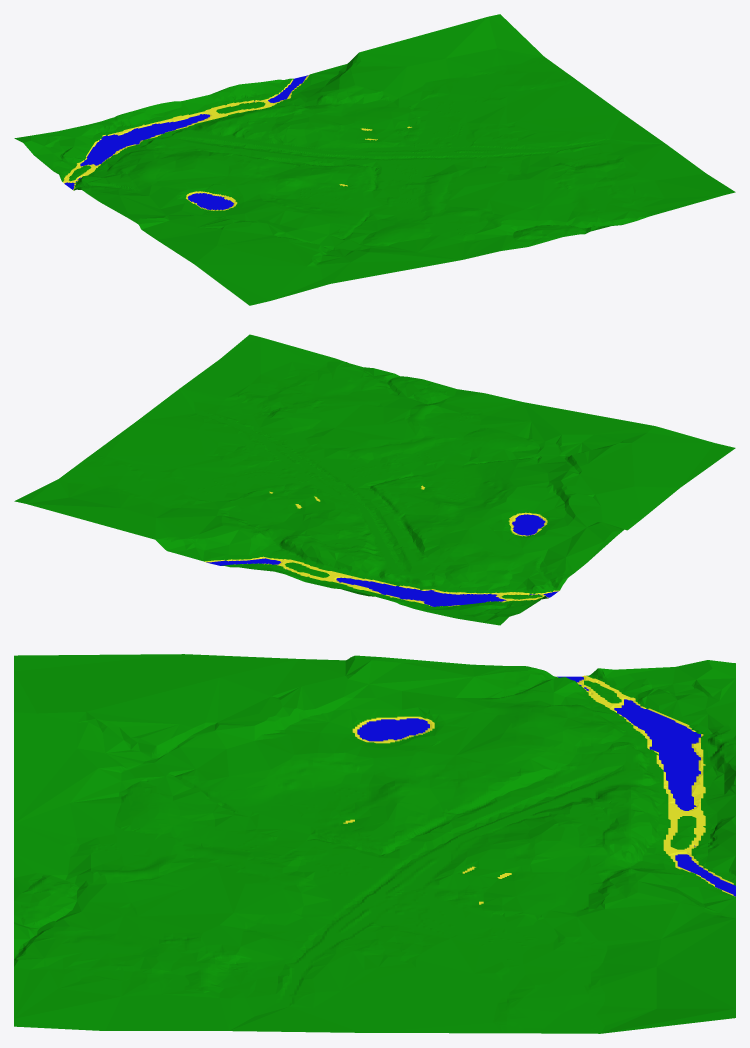
File: manifold.obj
The picture shows the model from 3 angles, top to bottom: view 1: azimuth 30°, elevation 25°; view 2: azimuth 150°, elevation 25°; view 3: azimuth 270°, elevation 25°; orthographic projection. The views are drawn at different scales.
Visible parts, largest first — view 1: ground, deepwater, water; view 2: ground, deepwater, water; view 3: ground, deepwater, water.
Part boxes in pixels (<box>): ground: <box>14,14,735,305</box>; deepwater: <box>64,75,308,209</box>; water: <box>63,74,411,210</box>; ground: <box>14,334,735,625</box>; deepwater: <box>206,514,558,606</box>; water: <box>205,485,559,606</box>; ground: <box>14,654,735,1033</box>; deepwater: <box>357,676,735,896</box>; water: <box>343,675,735,904</box>.
Bounding box in the file's own units: 736 × 23.64 × 618.
